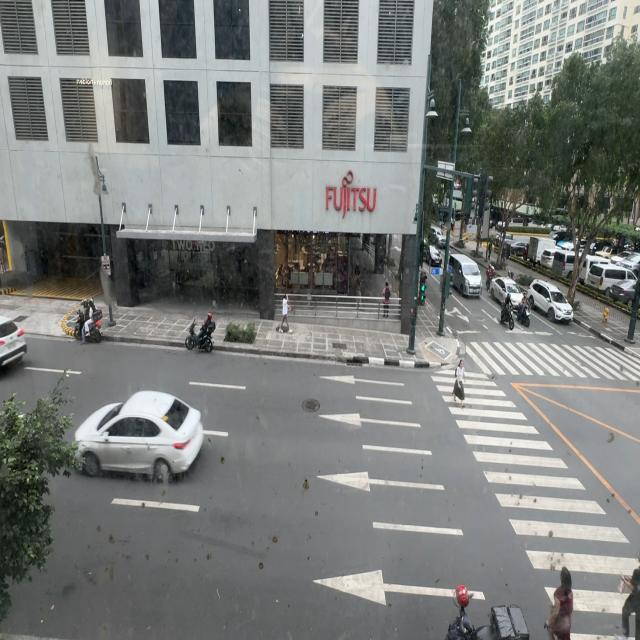crossing: (626, 559, 640, 640), (453, 358, 466, 405)
jaywalking: (551, 560, 574, 638)
pedestrain: (276, 291, 292, 333), (382, 282, 391, 318), (378, 246, 385, 274)
